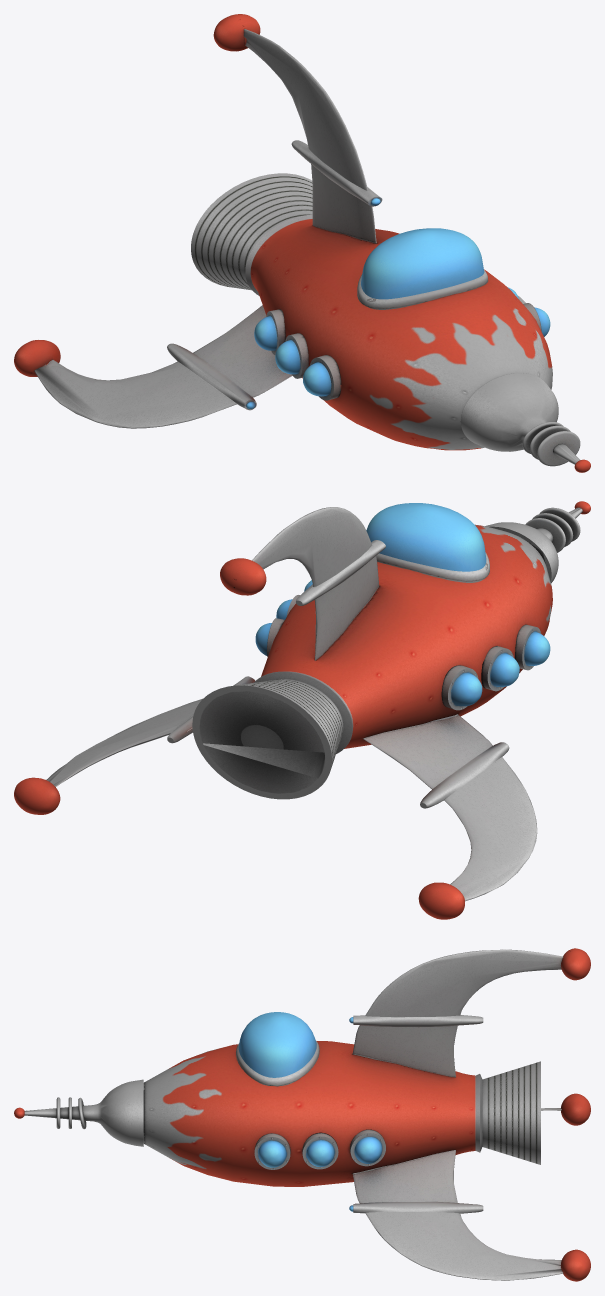
File: rocket.obj
3 renders of one model, top to bottom at view 1: azimuth 30°, elevation 25°; view 2: azimuth 150°, elevation 25°; view 3: azimuth 270°, elevation 25°, orthographic. The views are drawn at different scales.
Visible parts, largest first — view 1: player; view 2: player; view 3: player.
Part boxes in pixels (x1,y1,x2,y2): player: (14,14,590,472); player: (14,501,590,919); player: (14,948,590,1281).
Bounding box in the file's own units: 0.3453 × 0.2287 × 0.4738.
Materials: 2 (2 with a texture image).
